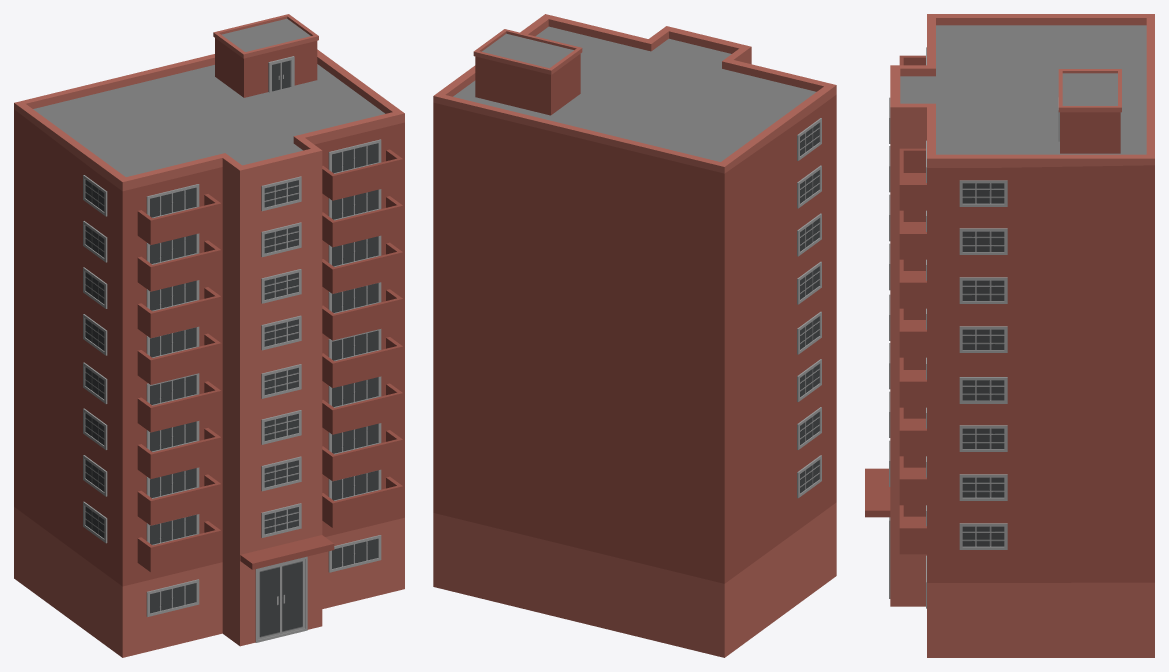
File: spb-building01.glb
3 renders of one model, left to right at view 1: azimuth 30°, elevation 25°; view 2: azimuth 150°, elevation 25°; view 3: azimuth 270°, elevation 25°, orthographic. The views are drawn at different scales.
Parts seen in each view (by area): view 1: SPB_Building01; view 2: SPB_Building01; view 3: SPB_Building01.
Boxes of the visible parts, <box> form: SPB_Building01: <box>14,14,404,657</box>; SPB_Building01: <box>433,14,836,657</box>; SPB_Building01: <box>865,14,1154,657</box>.
Bounding box in the file's own units: 15.54 × 26.75 × 13.05.
1 material, 1 textured.
